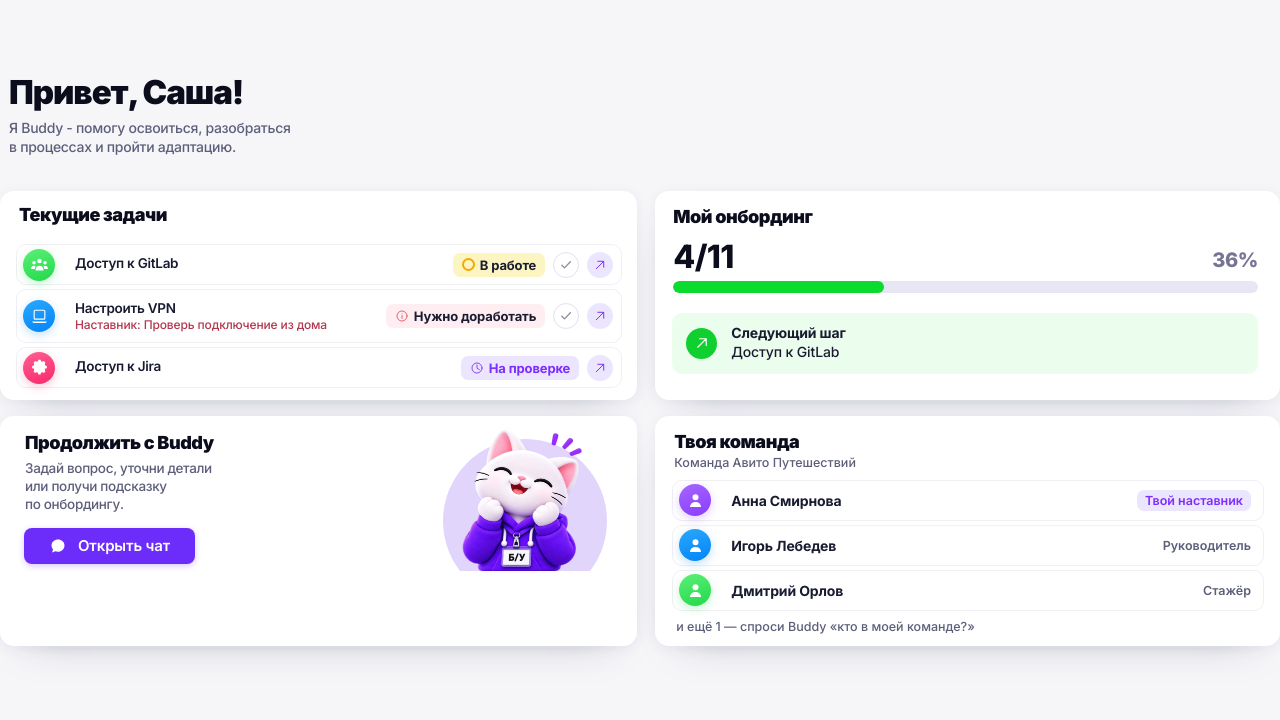
Test: Home: стажёр › ошибка отправки показывается под задачами
This screenshot has width=1280, height=720.
Click the button named "Отправить на проверку: Настроить VPN" at (566, 316), box [553,303,579,329]
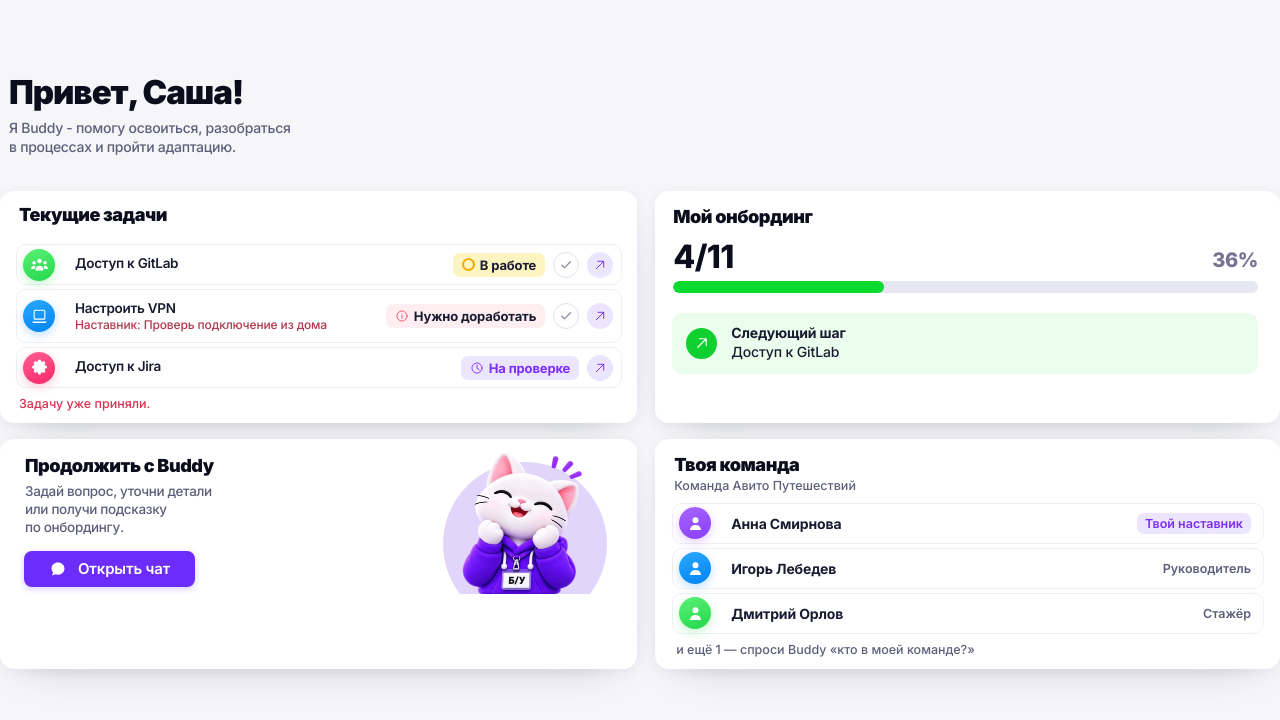
Now the message reads "Задачу уже приняли.", box [19,396,150,411]
